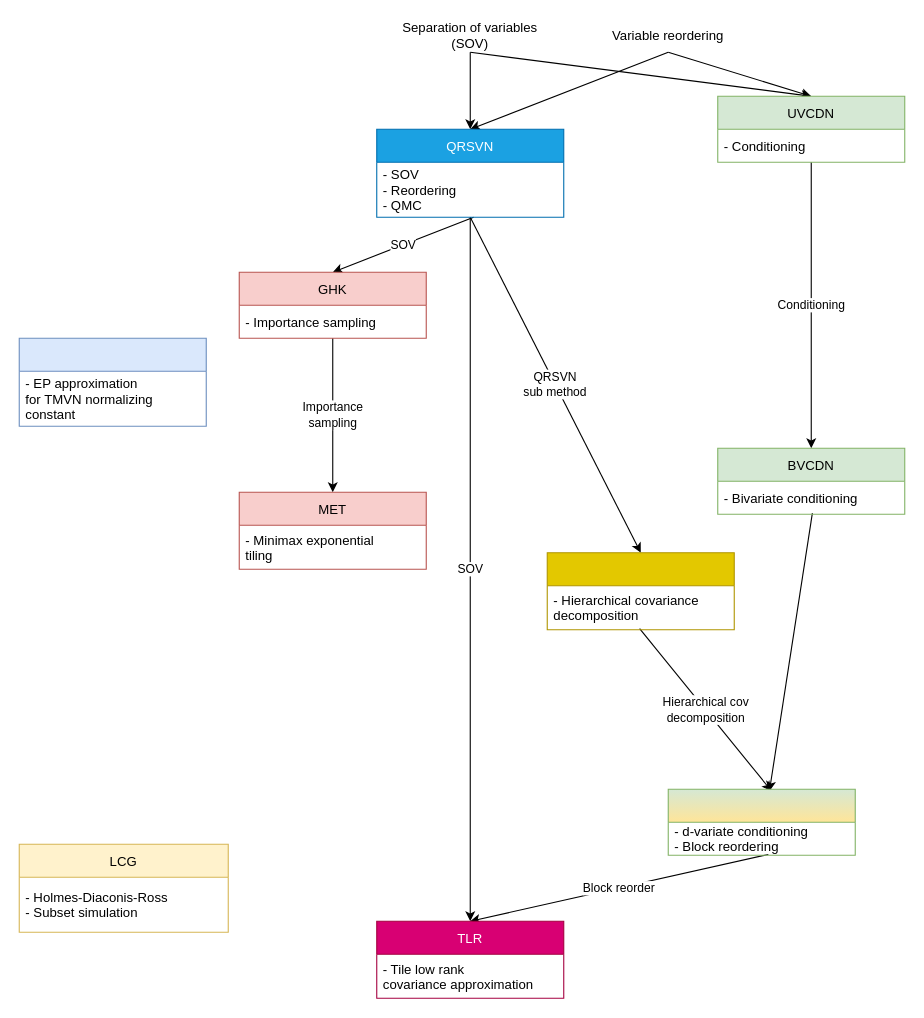
Some shapes in this 924 by 1018 pixel diagram are drawn without their labels. The box of each missing label's shape, as (x1, y1, x2, y2) in pixels:
EP: (18, 337, 206, 426)
HBLKCDN: (667, 788, 855, 855)
HMVN: (546, 552, 734, 630)
